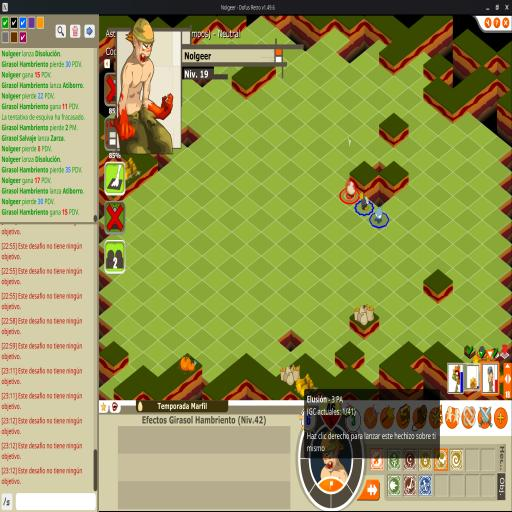Enemigos: (358, 189, 372, 213), (374, 204, 385, 224)
Personaje: (346, 180, 357, 200)
